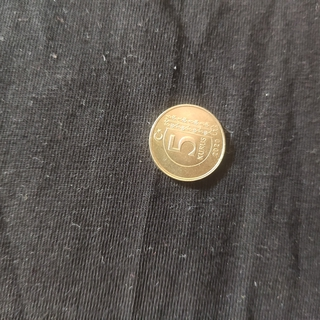5KURUS: (147, 102, 226, 182)
